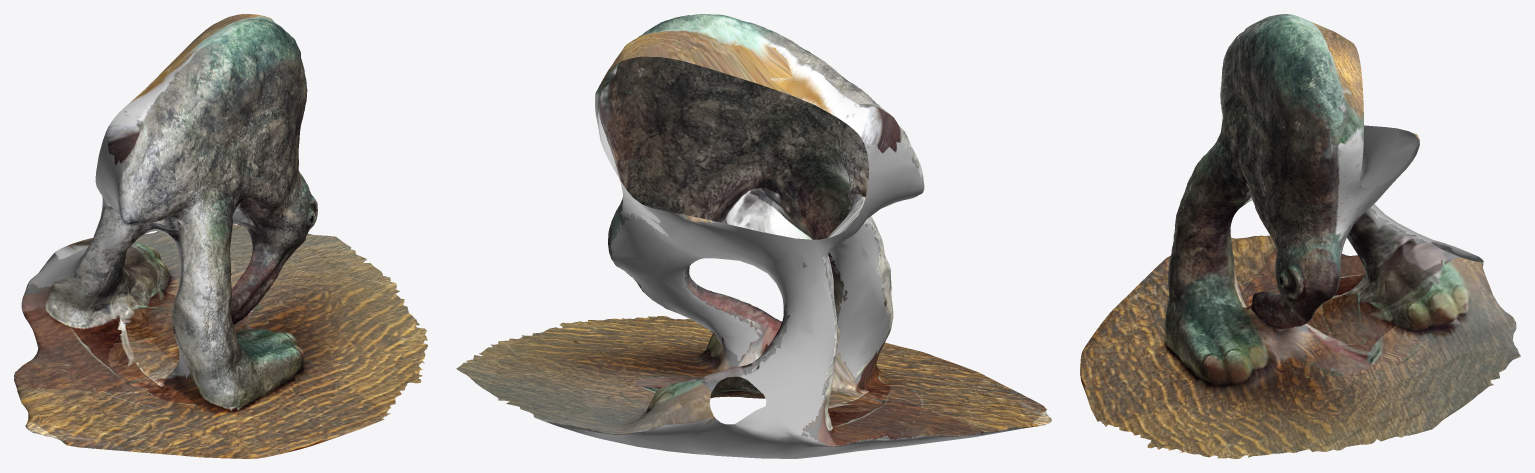
The model's file is kiekeboeBird.glb.
3 views of the same model, side by side, from view 1: azimuth 30°, elevation 25°; view 2: azimuth 150°, elevation 25°; view 3: azimuth 270°, elevation 25° (orthographic). The views are drawn at different scales.
Parts seen in each view (by area): view 1: kiekeboeBird; view 2: kiekeboeBird; view 3: kiekeboeBird.
Part boxes in pixels (x1=…): kiekeboeBird: x1=14, y1=14, x2=427, y2=458; kiekeboeBird: x1=456, y1=14, x2=1051, y2=458; kiekeboeBird: x1=1080, y1=14, x2=1520, y2=458.
Bounding box in the file's own units: 28.66 × 22.24 × 23.91.
Materials: 2 (1 with a texture image).
